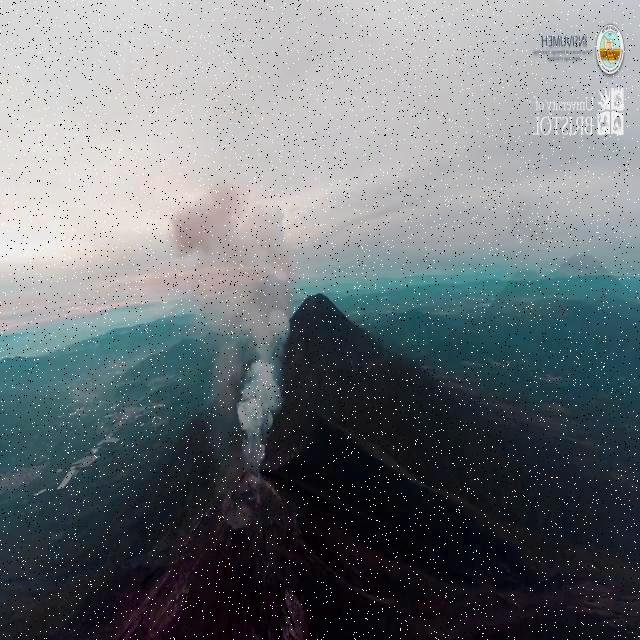Plume: (166, 179, 298, 473)
Summit: (107, 475, 298, 640)
